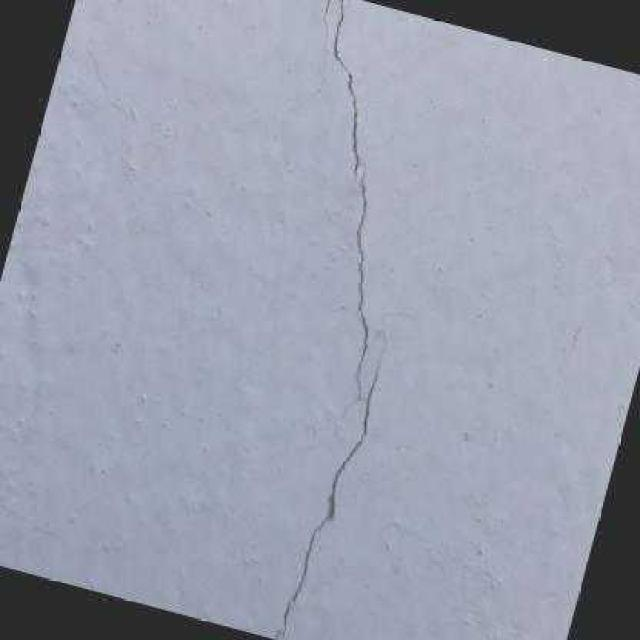D00: (275, 318, 390, 640), (332, 0, 372, 431), (322, 0, 332, 56)
